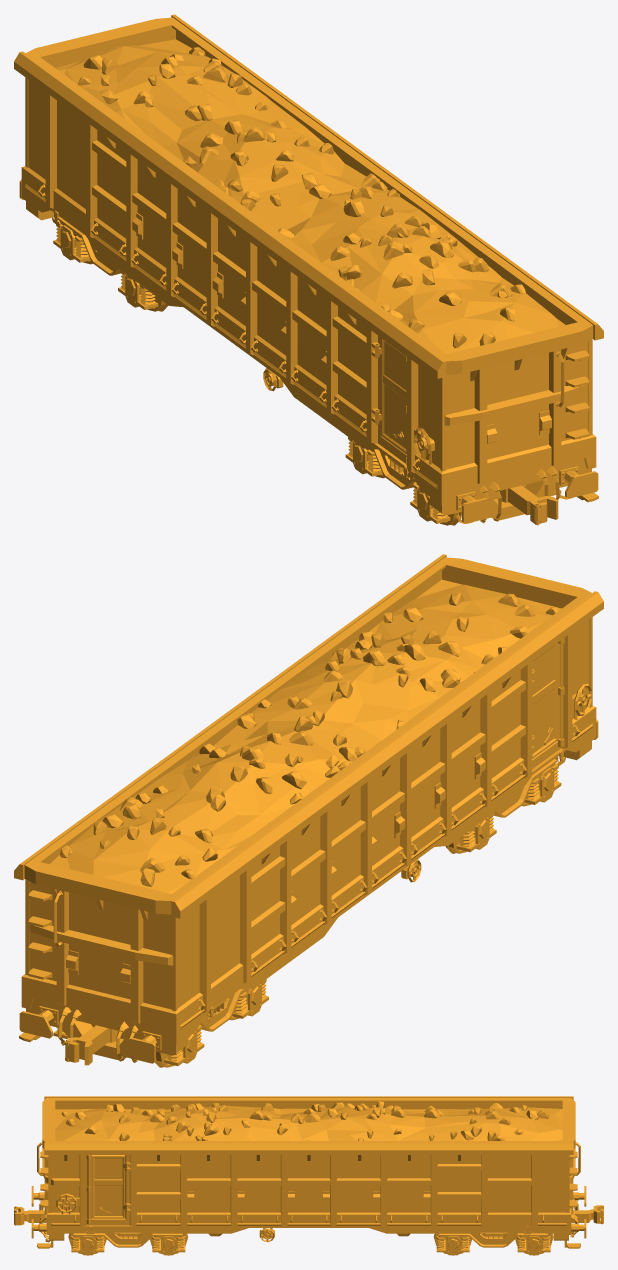
The model's file is SM_Train_Wagon_Cargo_A_Coal.fbx.
3 renders of one model, top to bottom at view 1: azimuth 30°, elevation 25°; view 2: azimuth 150°, elevation 25°; view 3: azimuth 270°, elevation 25°, orthographic. The views are drawn at different scales.
Visible parts, largest first — view 1: SM_Train_Wagon_Cargo_A_Coal_Base, SM_Train_Wagon_Cargo_A_Coal_Base_Chassis_B, SM_Train_Wagon_Cargo_A_Coal_Base_Chassis_F, SM_Train_Wagon_Cargo_A_Coal_Base_Joint_F; view 2: SM_Train_Wagon_Cargo_A_Coal_Base, SM_Train_Wagon_Cargo_A_Coal_Base_Chassis_F, SM_Train_Wagon_Cargo_A_Coal_Base_Chassis_B, SM_Train_Wagon_Cargo_A_Coal_Base_Joint_B; view 3: SM_Train_Wagon_Cargo_A_Coal_Base, SM_Train_Wagon_Cargo_A_Coal_Base_Chassis_F, SM_Train_Wagon_Cargo_A_Coal_Base_Chassis_B, SM_Train_Wagon_Cargo_A_Coal_Base_Joint_F, SM_Train_Wagon_Cargo_A_Coal_Base_Joint_B.
Boxes of the visible parts, left/top/right/bottom form: SM_Train_Wagon_Cargo_A_Coal_Base: left=14, top=14, right=603, bottom=523; SM_Train_Wagon_Cargo_A_Coal_Base_Chassis_B: left=53, top=216, right=158, bottom=309; SM_Train_Wagon_Cargo_A_Coal_Base_Chassis_F: left=345, top=437, right=561, bottom=523; SM_Train_Wagon_Cargo_A_Coal_Base_Joint_F: left=497, top=485, right=558, bottom=525; SM_Train_Wagon_Cargo_A_Coal_Base: left=14, top=554, right=603, bottom=1063; SM_Train_Wagon_Cargo_A_Coal_Base_Chassis_F: left=456, top=756, right=561, bottom=852; SM_Train_Wagon_Cargo_A_Coal_Base_Chassis_B: left=53, top=979, right=268, bottom=1065; SM_Train_Wagon_Cargo_A_Coal_Base_Joint_B: left=65, top=1025, right=119, bottom=1065; SM_Train_Wagon_Cargo_A_Coal_Base: left=31, top=1096, right=586, bottom=1248; SM_Train_Wagon_Cargo_A_Coal_Base_Chassis_F: left=70, top=1228, right=185, bottom=1255; SM_Train_Wagon_Cargo_A_Coal_Base_Chassis_B: left=436, top=1228, right=551, bottom=1255; SM_Train_Wagon_Cargo_A_Coal_Base_Joint_F: left=14, top=1206, right=46, bottom=1225; SM_Train_Wagon_Cargo_A_Coal_Base_Joint_B: left=571, top=1205, right=603, bottom=1224.
Size of the model in its own units: 3 by 3.68 by 14.61.
